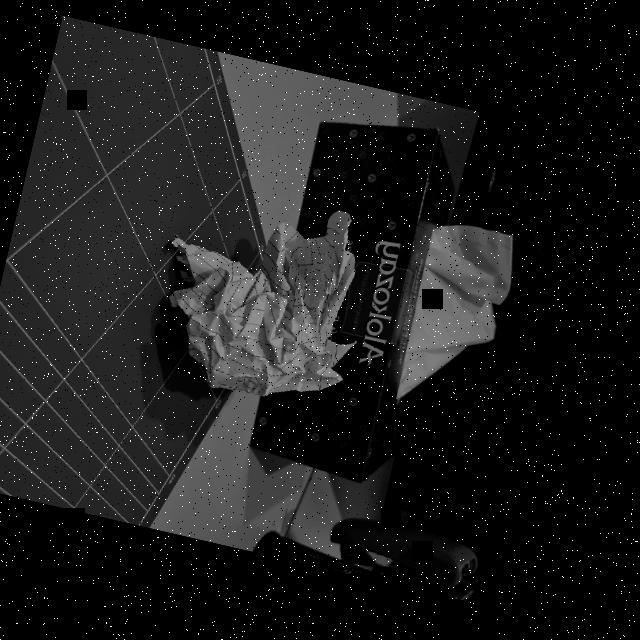scrap_paper: (150, 177, 372, 425)
